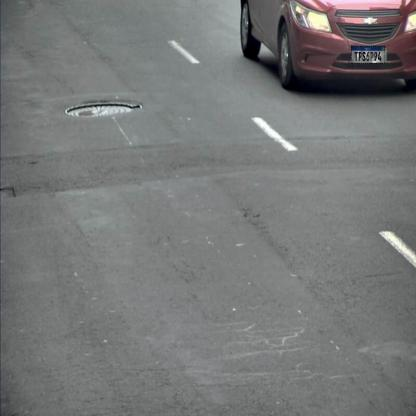PlacaM: (351, 46, 385, 64)
